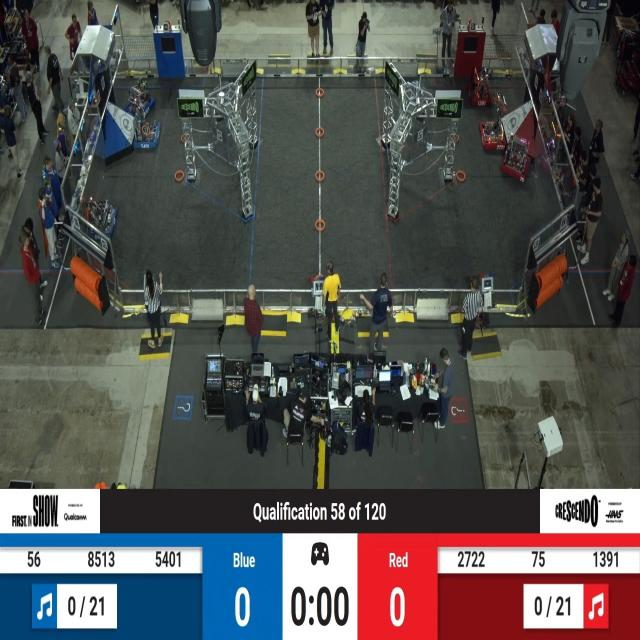Robot: (478, 90, 508, 159), (500, 130, 534, 188), (84, 191, 120, 245), (124, 73, 156, 124), (128, 112, 162, 160), (467, 60, 492, 111)
